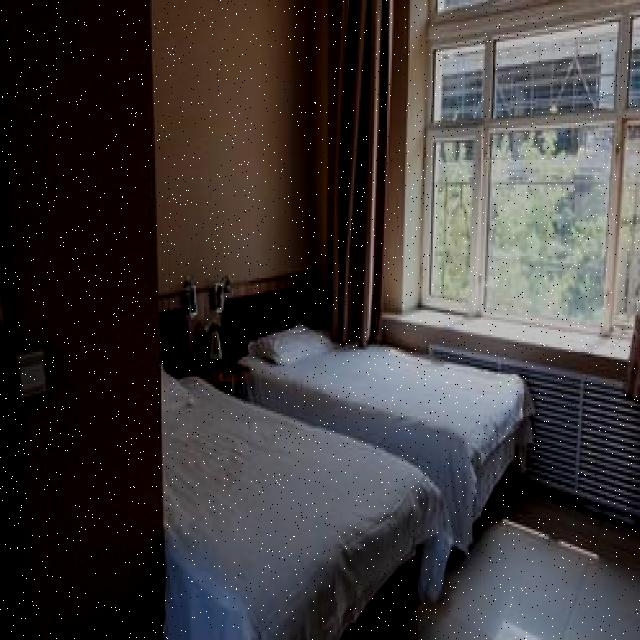bed: (162, 403, 428, 640), (242, 312, 529, 436)
